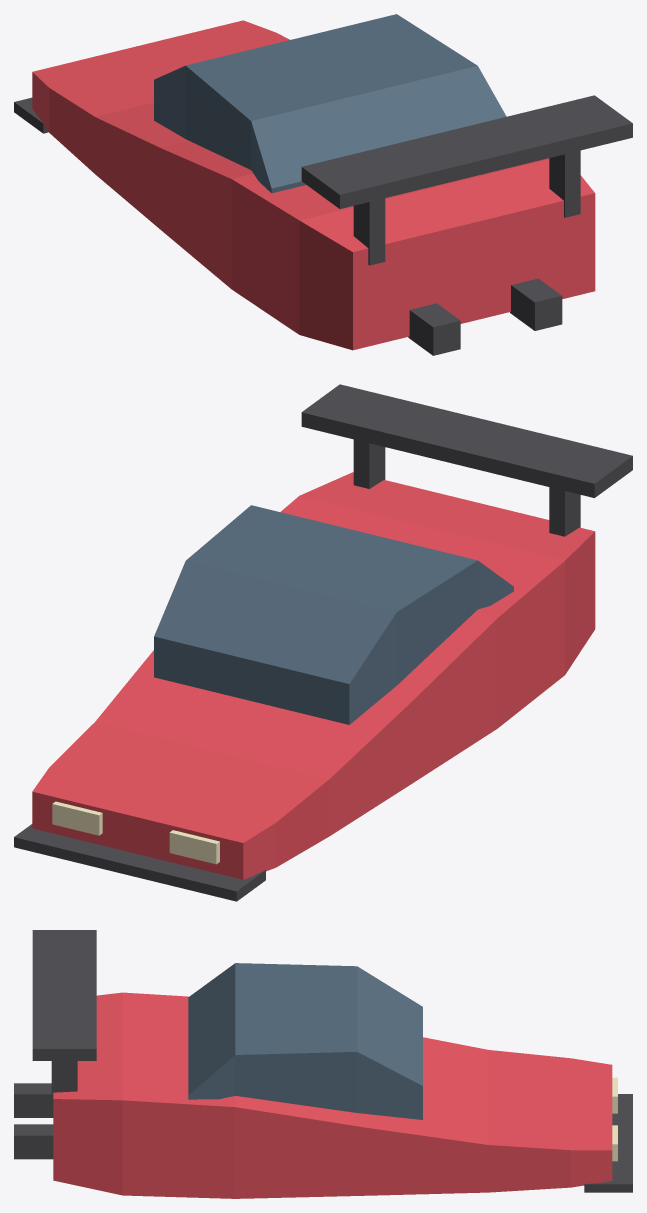
The model's file is A_Wedge_Body.fbx.
3 views of the same model, one above another, from view 1: azimuth 30°, elevation 25°; view 2: azimuth 150°, elevation 25°; view 3: azimuth 270°, elevation 25° (orthographic). The views are drawn at different scales.
Visible parts, largest first — view 1: A_Wedge_Body, A_Wedge_Canopy, A_Wedge_Wing, A_Wedge_Exhaust_L, A_Wedge_Exhaust_R, A_Wedge_WingPost_L, A_Wedge_WingPost_R, A_Wedge_Splitter; view 2: A_Wedge_Body, A_Wedge_Canopy, A_Wedge_Wing, A_Wedge_Splitter, A_Wedge_WingPost_R, A_Wedge_WingPost_L, A_Wedge_Light_L, A_Wedge_Light_R; view 3: A_Wedge_Body, A_Wedge_Canopy, A_Wedge_Wing, A_Wedge_Splitter, A_Wedge_Exhaust_R, A_Wedge_Exhaust_L, A_Wedge_WingPost_R.
Boxes of the visible parts, bbox=[...] form: A_Wedge_Body: bbox=[32, 20, 595, 350]; A_Wedge_Canopy: bbox=[154, 14, 506, 193]; A_Wedge_Wing: bbox=[301, 95, 632, 208]; A_Wedge_Exhaust_L: bbox=[408, 303, 460, 355]; A_Wedge_Exhaust_R: bbox=[510, 278, 562, 330]; A_Wedge_WingPost_L: bbox=[353, 198, 385, 265]; A_Wedge_WingPost_R: bbox=[549, 150, 580, 217]; A_Wedge_Splitter: bbox=[14, 97, 48, 133]; A_Wedge_Body: bbox=[32, 472, 595, 879]; A_Wedge_Canopy: bbox=[154, 505, 513, 724]; A_Wedge_Wing: bbox=[301, 384, 632, 497]; A_Wedge_Splitter: bbox=[14, 824, 265, 901]; A_Wedge_WingPost_R: bbox=[353, 439, 385, 488]; A_Wedge_WingPost_L: bbox=[549, 487, 580, 536]; A_Wedge_Light_L: bbox=[169, 830, 219, 864]; A_Wedge_Light_R: bbox=[52, 801, 102, 835]; A_Wedge_Body: bbox=[53, 992, 612, 1198]; A_Wedge_Canopy: bbox=[188, 963, 422, 1119]; A_Wedge_Wing: bbox=[32, 930, 96, 1060]; A_Wedge_Splitter: bbox=[584, 1094, 632, 1192]; A_Wedge_Exhaust_R: bbox=[14, 1124, 53, 1159]; A_Wedge_Exhaust_L: bbox=[14, 1083, 53, 1117]; A_Wedge_WingPost_R: bbox=[51, 1061, 77, 1106].
Bounding box in the file's own units: 150 × 93 × 330.
